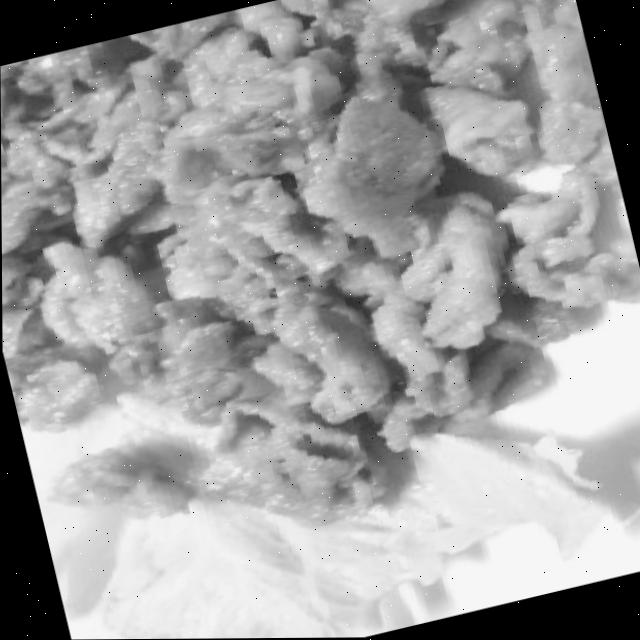猪肉菜式: (0, 0, 640, 591)
